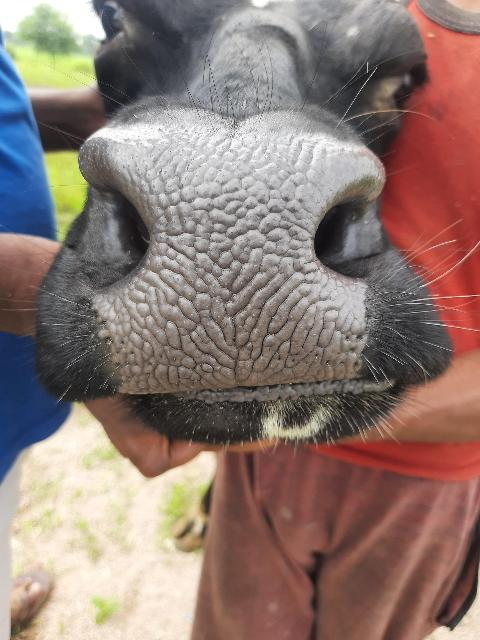Muzzle: (122, 132, 334, 388)
